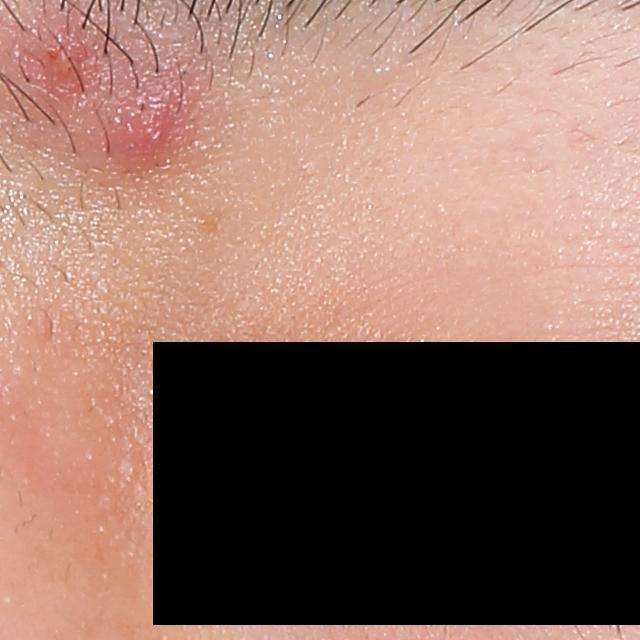papule: (110, 83, 190, 158), (33, 32, 80, 84)
